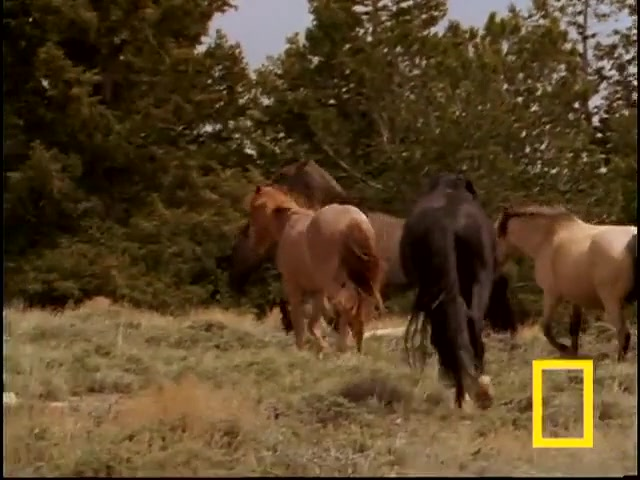horse: (397, 169, 502, 411)
